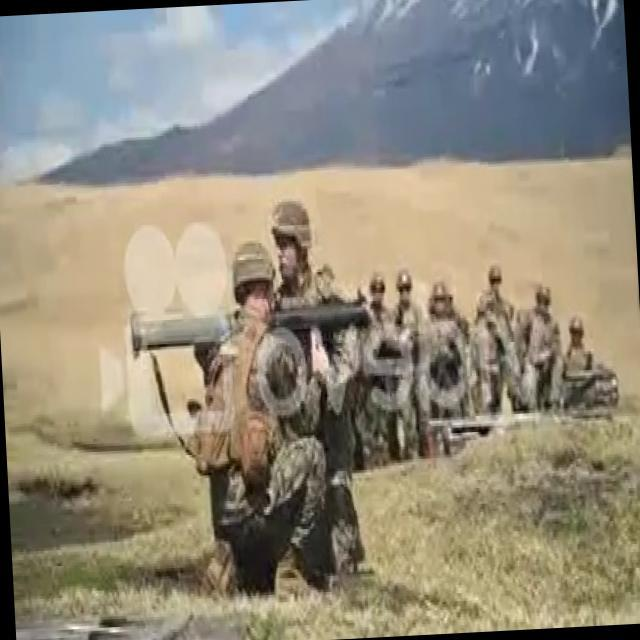rocket: (131, 296, 372, 356)
